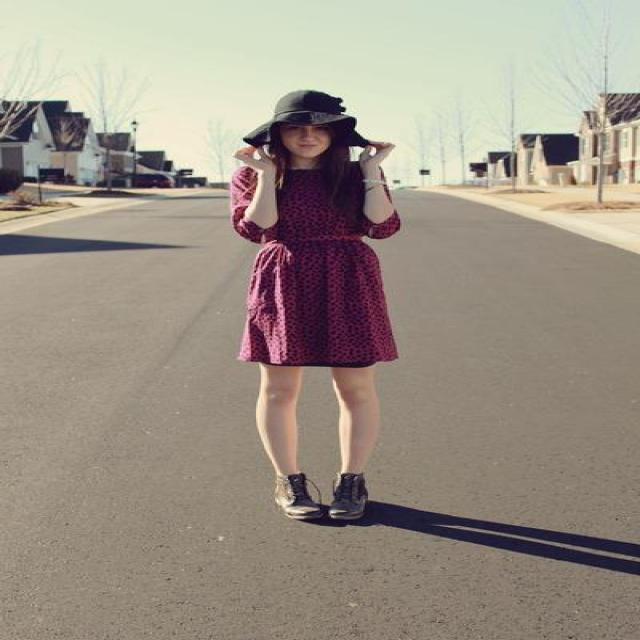dress: (234, 166, 398, 367)
hat: (293, 90, 350, 122)
shoe: (288, 473, 371, 526)
